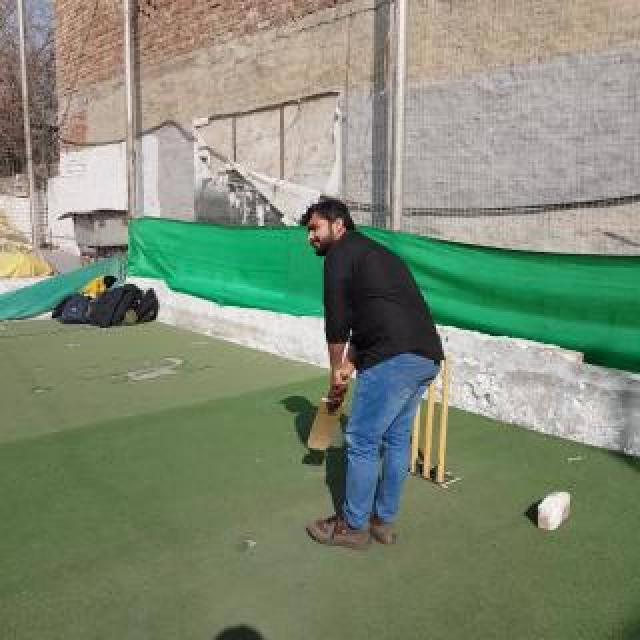bat: (307, 370, 347, 450)
